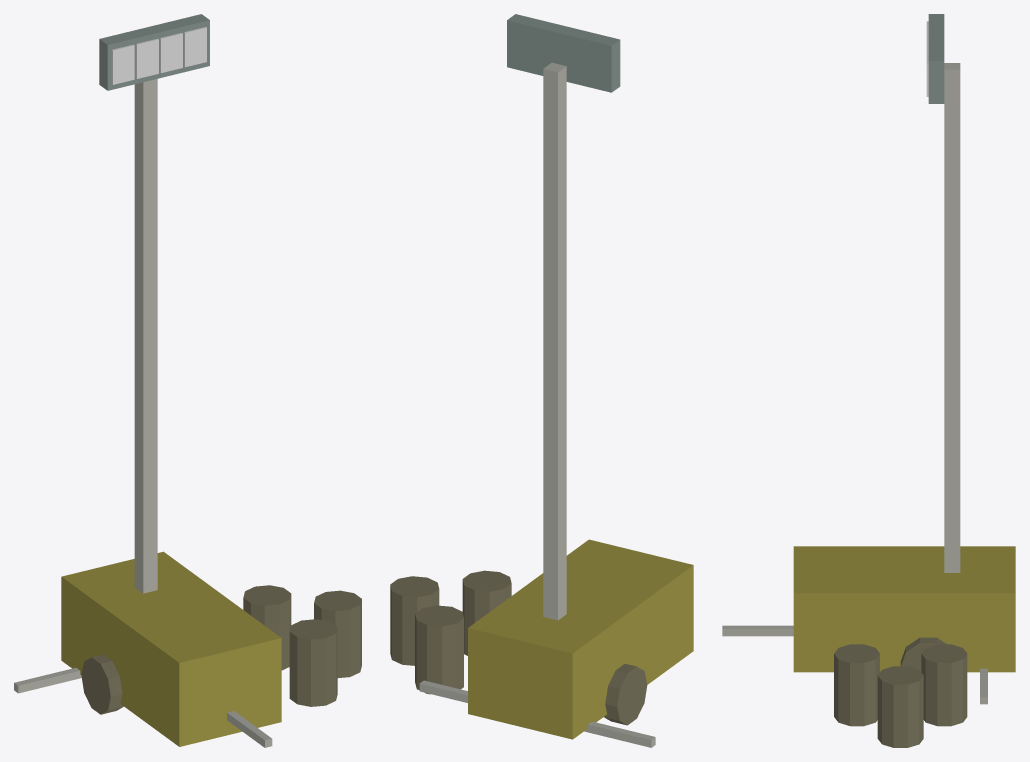
The model's file is SM_TorreLuz_v3_Bidones_LOD0.fbx.
3 renders of one model, left to right at view 1: azimuth 30°, elevation 25°; view 2: azimuth 150°, elevation 25°; view 3: azimuth 270°, elevation 25°, orthographic. The views are drawn at different scales.
Visible parts, largest first — view 1: SM_ambiente_aerodromo_v18_LOD0; view 2: SM_ambiente_aerodromo_v18_LOD0; view 3: SM_ambiente_aerodromo_v18_LOD0.
Boxes of the visible parts, bbox=[...] form: SM_ambiente_aerodromo_v18_LOD0: bbox=[14, 14, 361, 747]; SM_ambiente_aerodromo_v18_LOD0: bbox=[390, 14, 693, 747]; SM_ambiente_aerodromo_v18_LOD0: bbox=[722, 14, 1015, 747].
Size of the model in its own units: 4.08 by 8.7 by 3.7.
